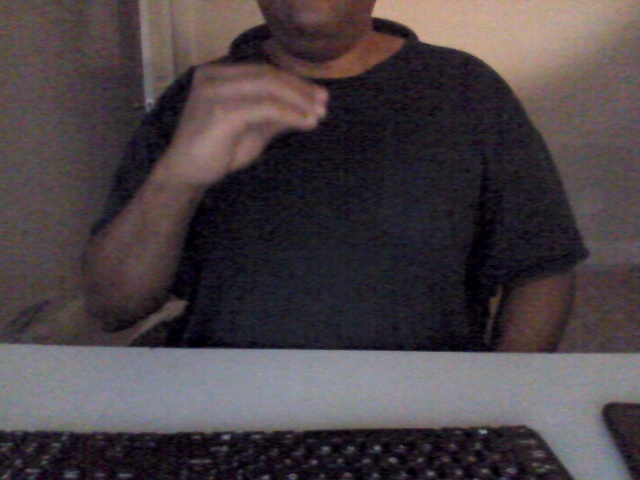eat: (149, 55, 338, 187)
